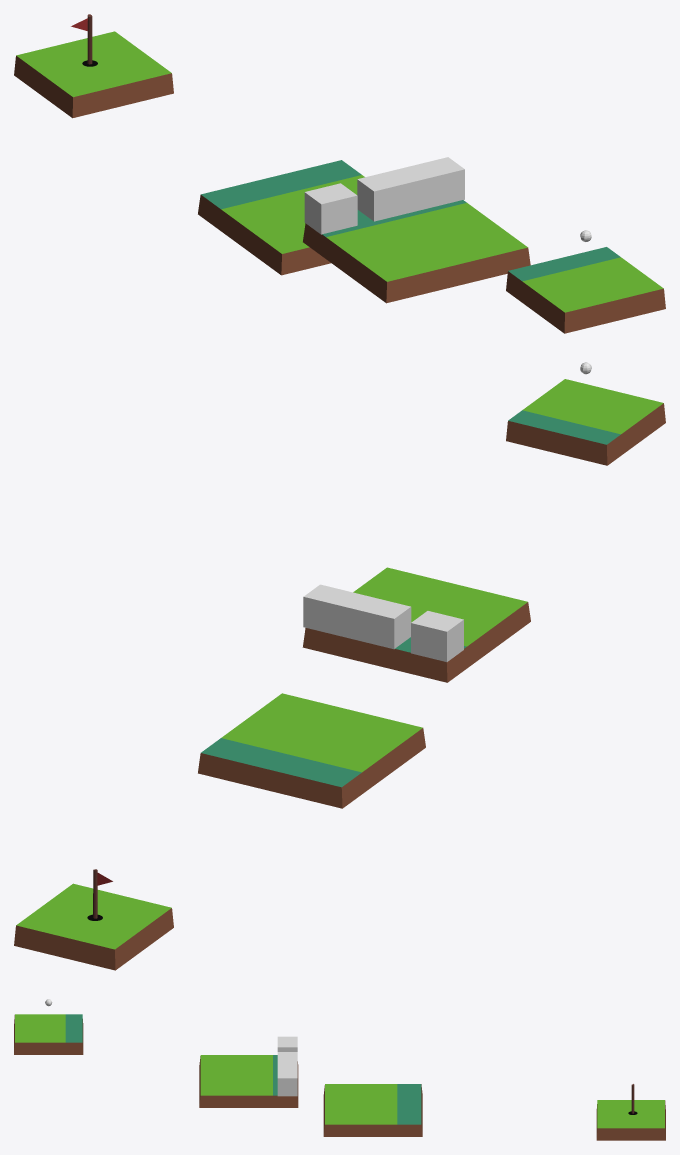
Rendered from level5.glb.
The picture shows the model from 3 angles, top to bottom: view 1: azimuth 30°, elevation 25°; view 2: azimuth 150°, elevation 25°; view 3: azimuth 270°, elevation 25°; orthographic projection. The views are drawn at different scales.
Visible parts, largest first — view 1: basic-moveable.004, basic-moveable.001, basic-moveable.002, basic-moveable.003, Cube, flag; view 2: basic-moveable.001, basic-moveable.004, basic-moveable.002, basic-moveable.003, Cube; view 3: basic-moveable.001, basic-moveable.004, basic-moveable.002, basic-moveable.003, Cube.
Boxes of the visible parts, box(x1,y1,x2,y2) form: basic-moveable.004: box(303, 200, 530, 303); basic-moveable.001: box(198, 160, 364, 275); basic-moveable.002: box(506, 247, 665, 333); basic-moveable.003: box(14, 31, 173, 118); Cube: box(304, 157, 464, 234); flag: box(71, 14, 97, 66); basic-moveable.001: box(198, 693, 425, 808); basic-moveable.004: box(302, 567, 530, 682); basic-moveable.002: box(506, 379, 665, 465); basic-moveable.003: box(14, 883, 173, 970); Cube: box(303, 584, 463, 661); basic-moveable.001: box(323, 1084, 422, 1136); basic-moveable.004: box(199, 1055, 298, 1107); basic-moveable.002: box(14, 1014, 83, 1054); basic-moveable.003: box(596, 1100, 665, 1140); Cube: box(277, 1036, 297, 1096).
Size of the model in its own units: 2.85 by 4.03 by 18.79.
Materials: 5 (5 with a texture image).
